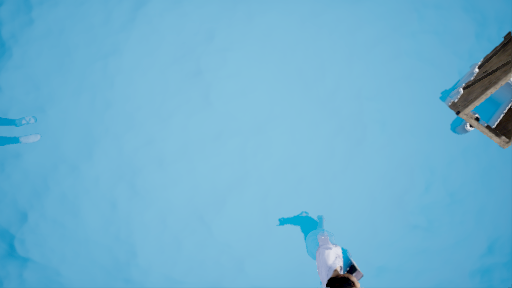person: (284, 212, 372, 288)
